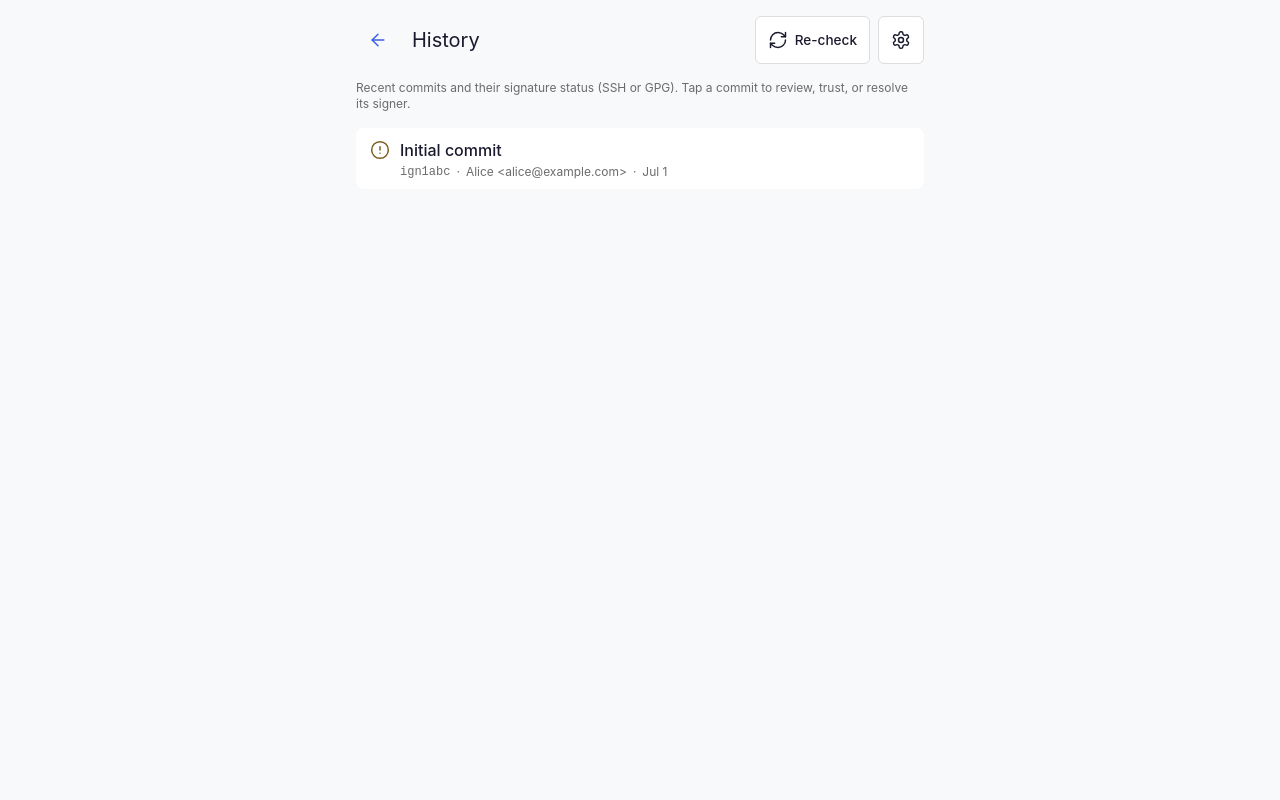
Test: HistoryPage › pagination › refreshes the row in place after ignore (no list reset)
This screenshot has width=1280, height=800.
Note: Open the detail sheet and click "Ignore this issue".
Click the button "Initial commit ign1abc · Alice <alice@example.com> · Jul 1".
click(451, 150)  # box [356,128,924,189]
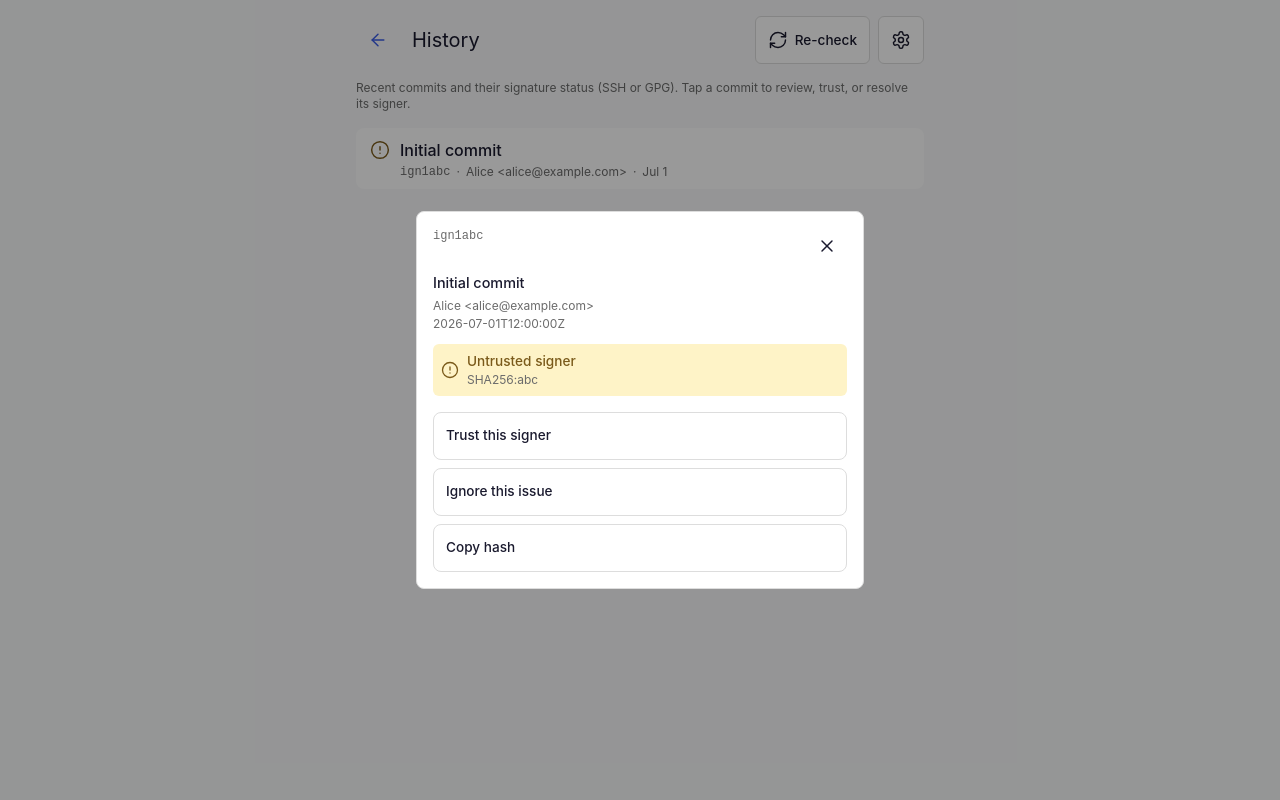
Expected: the button "Ignore this issue" is shown
Click the button "Ignore this issue".
click(499, 491)  # box [433,468,847,516]
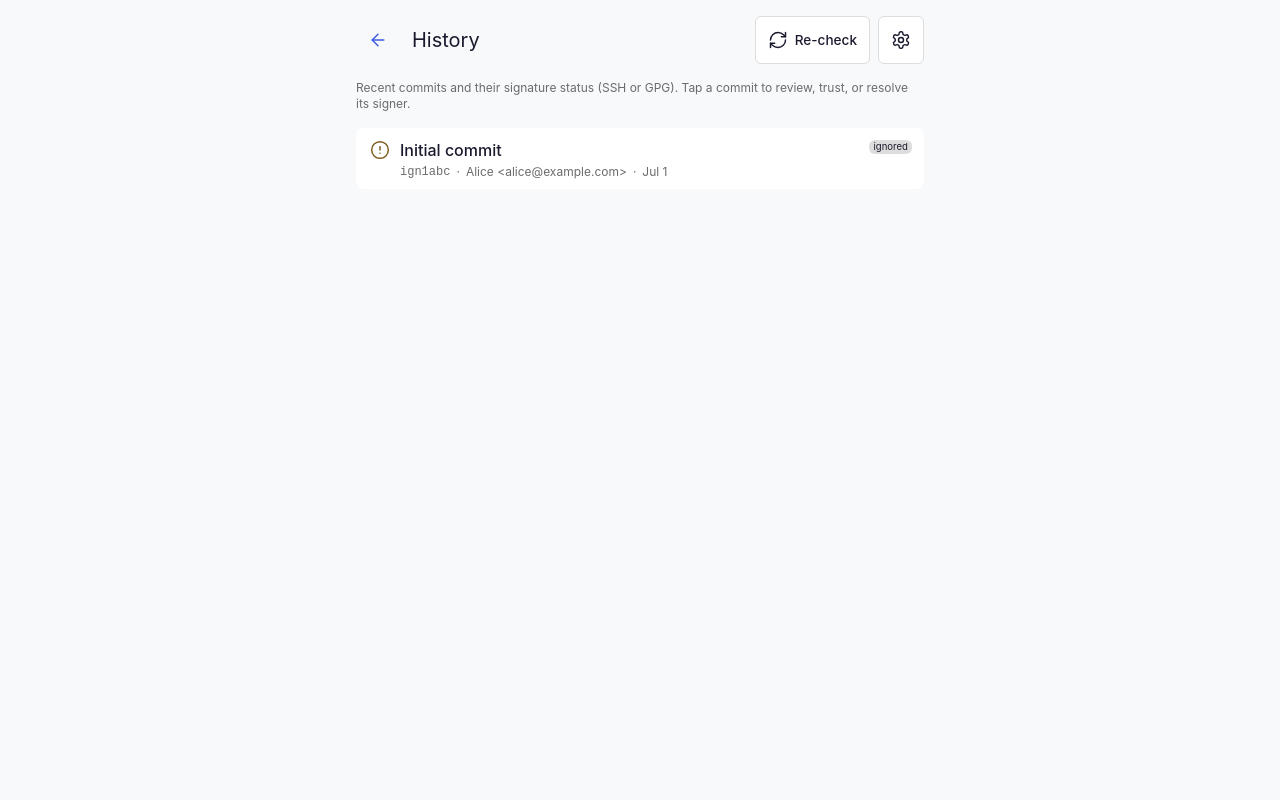
Expected: the text "ignored" is shown, [869,140,912,154]
